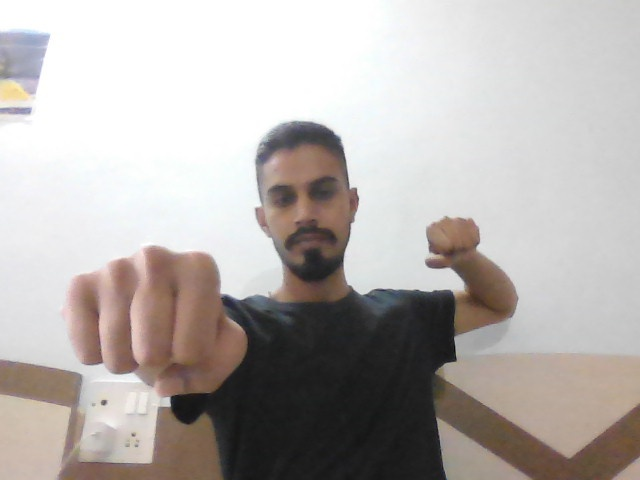Yes: (62, 242, 265, 377), (423, 213, 487, 273)
